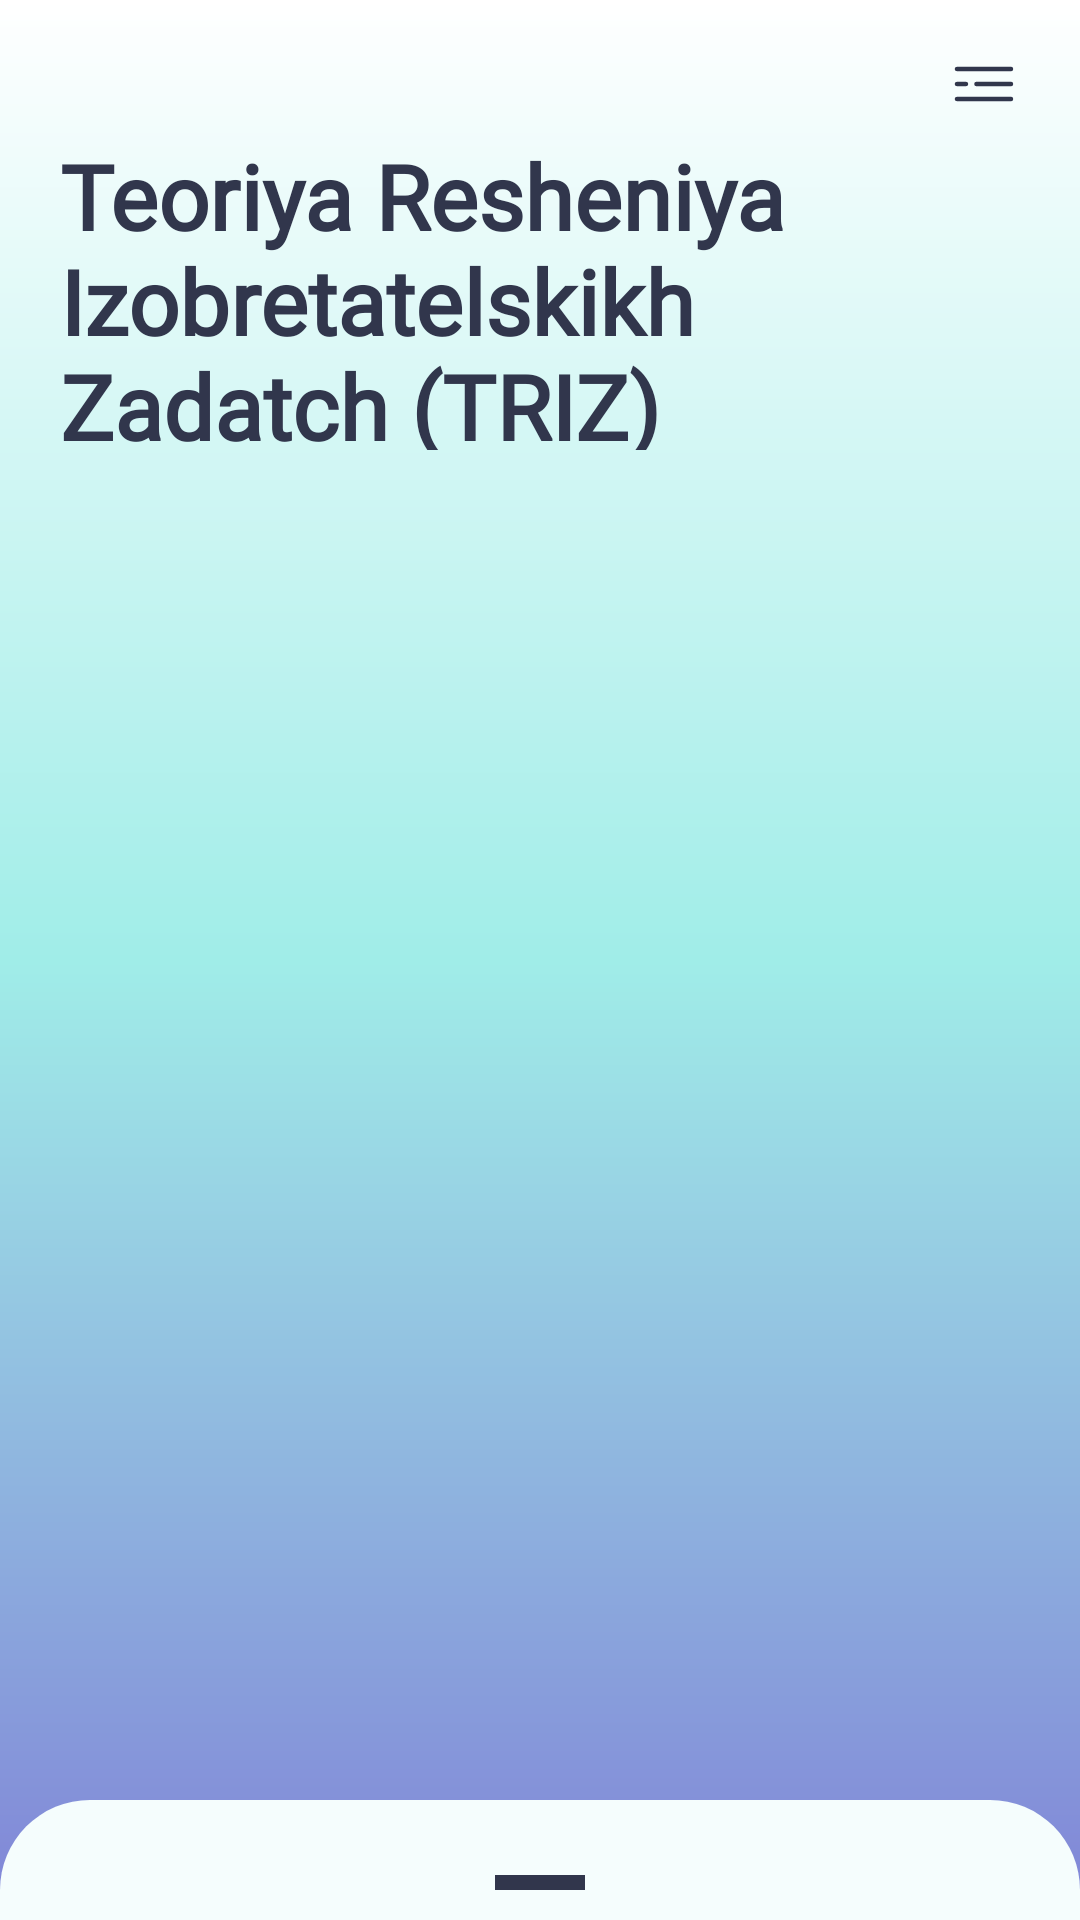

Screen size 1080px×1920px. Icon name, then its box in pixels as (x1,y1,x2,y2):
hambergermenu: (954,66,1013,102)
